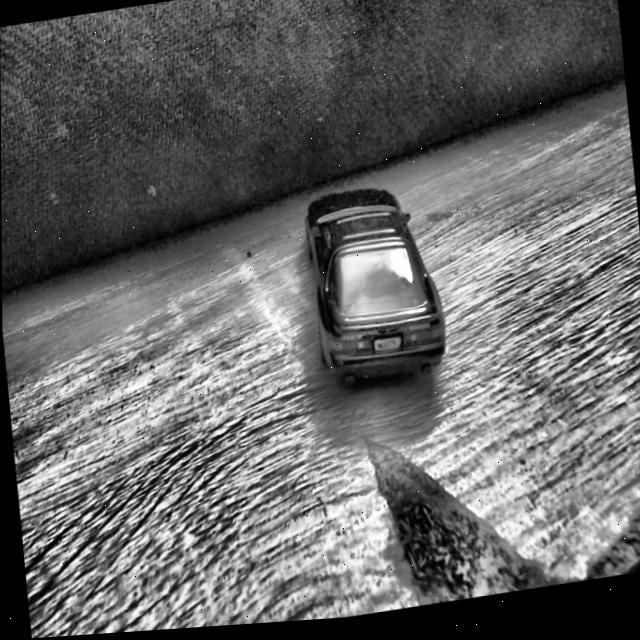car: (300, 180, 448, 396)
